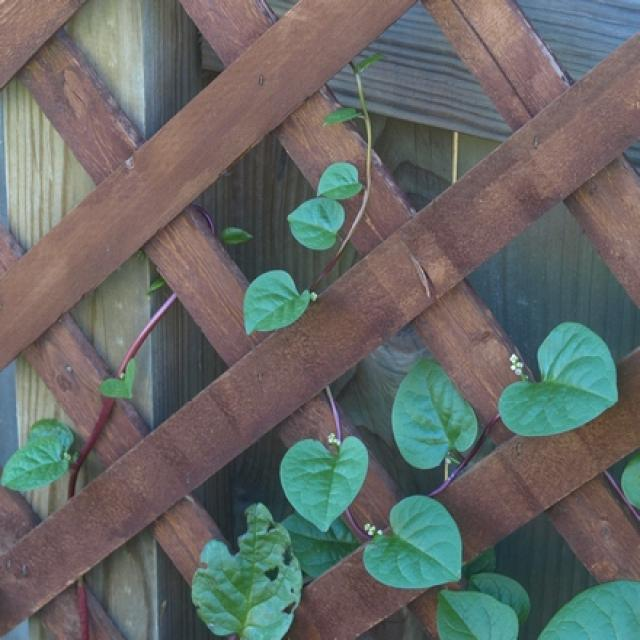Medicinal-Basale: (380, 320, 622, 473), (283, 422, 466, 594), (232, 160, 380, 339)
